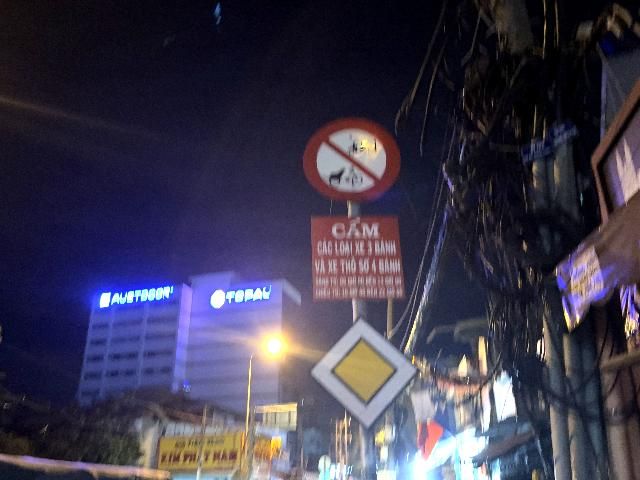bat-dau-duong-uu-tien: (309, 314, 419, 431)
cam-xe-3-banh-xe-tho-so-4-banh: (302, 116, 401, 202)
